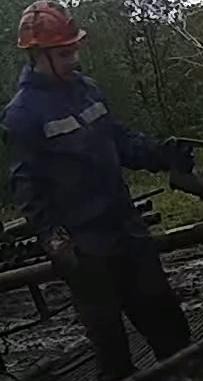gloves: (31, 214, 79, 277), (135, 134, 200, 177)
helmet: (16, 0, 87, 49)
vest: (0, 62, 134, 253)
